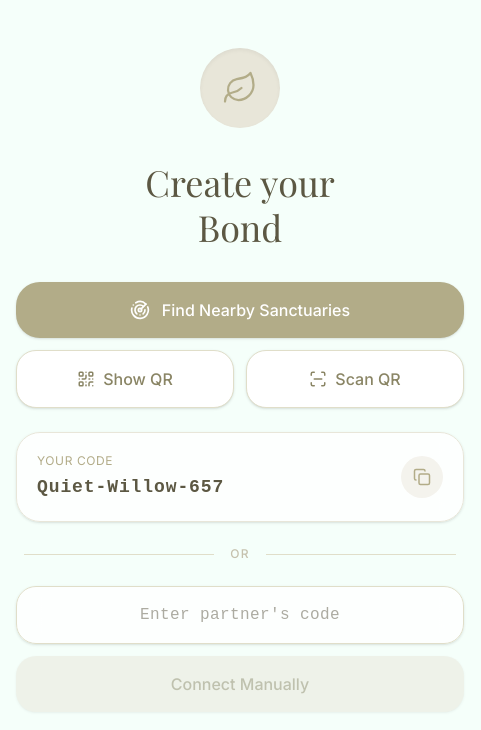
Test: BondScreen › should show "Partner is not online" message when partner is offline
In the field with placeholder "Enter partner's code": (240, 615) [16,586,464,644], type "Calm-Meadow-408"
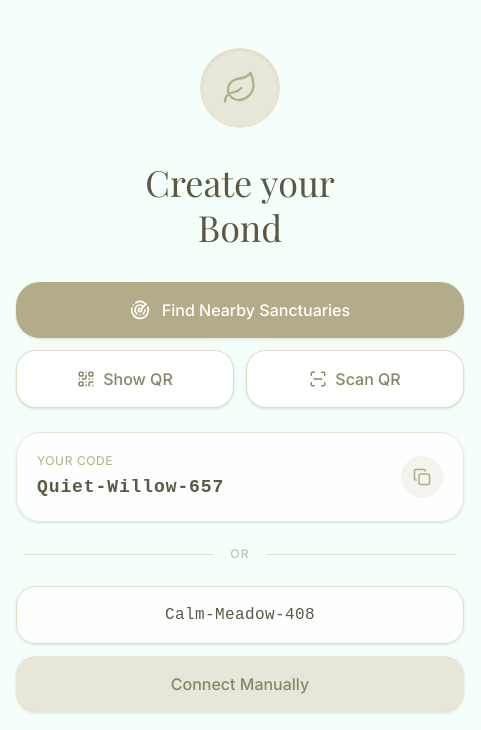
Click the button "Connect Manually": (240, 684) [16,656,464,712]
(page scrolled)
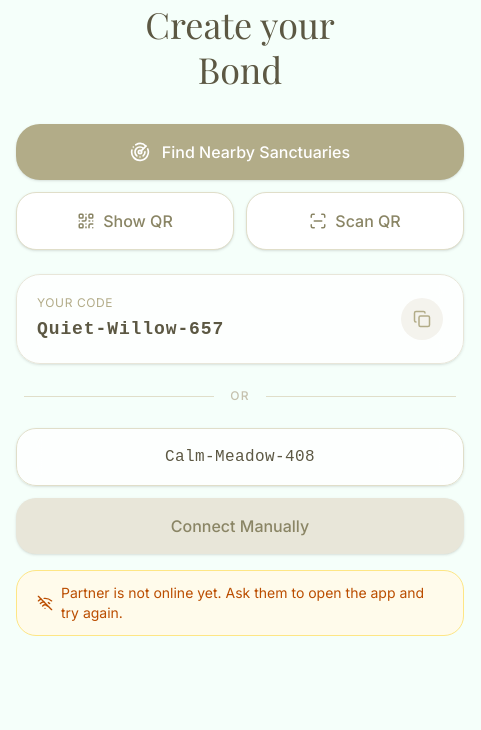
expect the text "Partner is not online yet" is shown: met, box [61,584,424,621]
